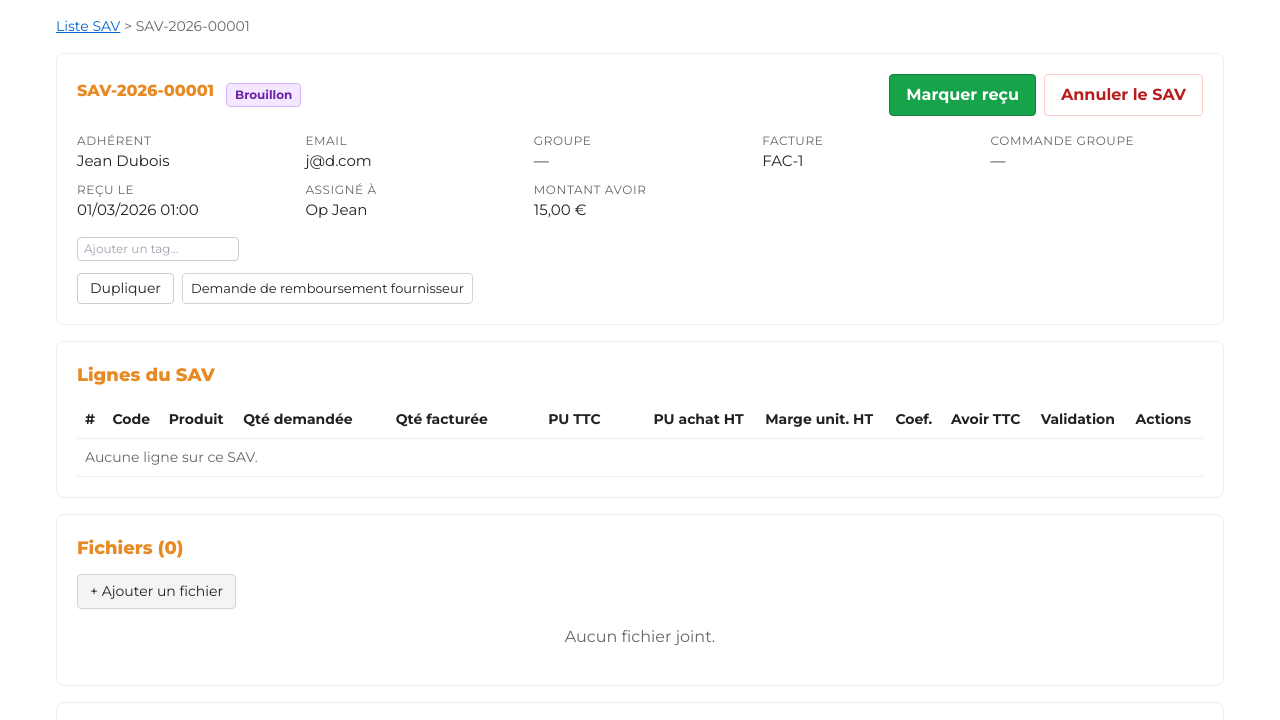
Scenario: SavDetailView — workflow back-office (transitions + émission avoir) › W-15 F-15 TypeError réseau classique ≠ AbortError → message générique, pas "trop de temps"
Click the button with test id "sav-receive-btn". click: point(963, 95)
box: x1=889 y1=74 x2=1036 y2=116
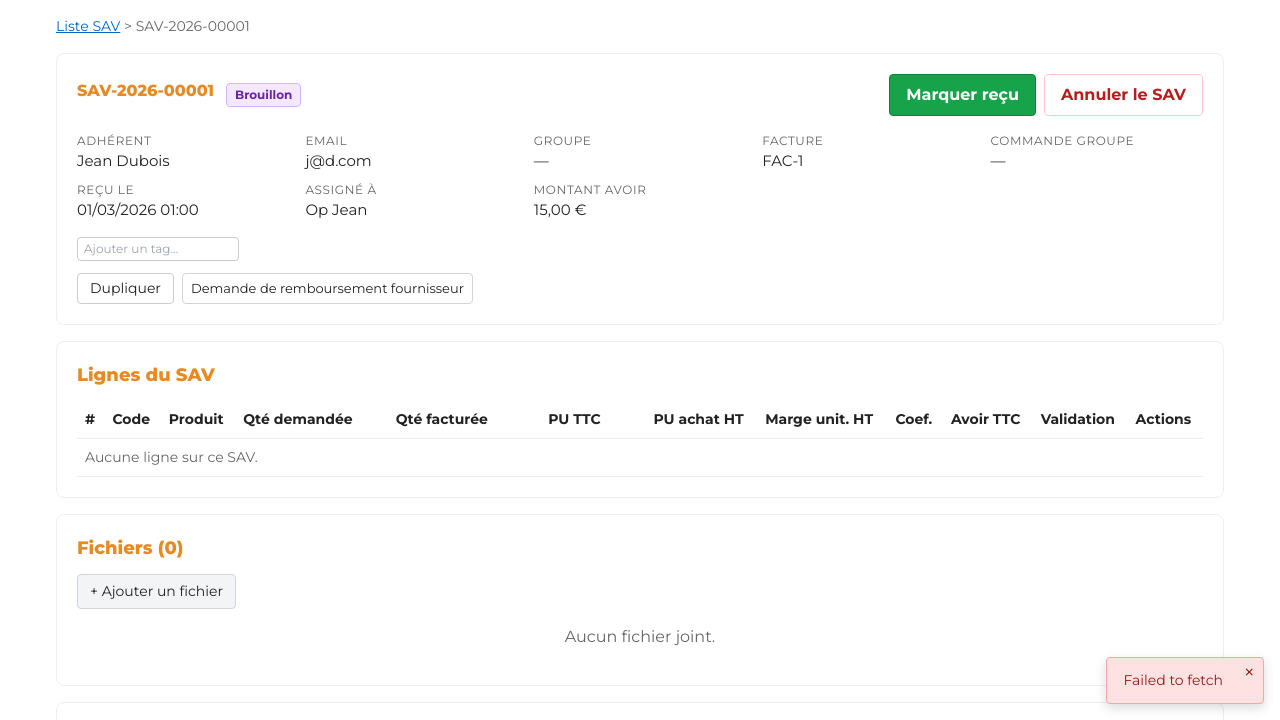
Result: the message "Failed to fetch ×" is shown at x1=1106 y1=657 x2=1264 y2=704
Result: the message with test id "sav-toast" shows "Failed to fetch" at x1=1123 y1=671 x2=1223 y2=689
